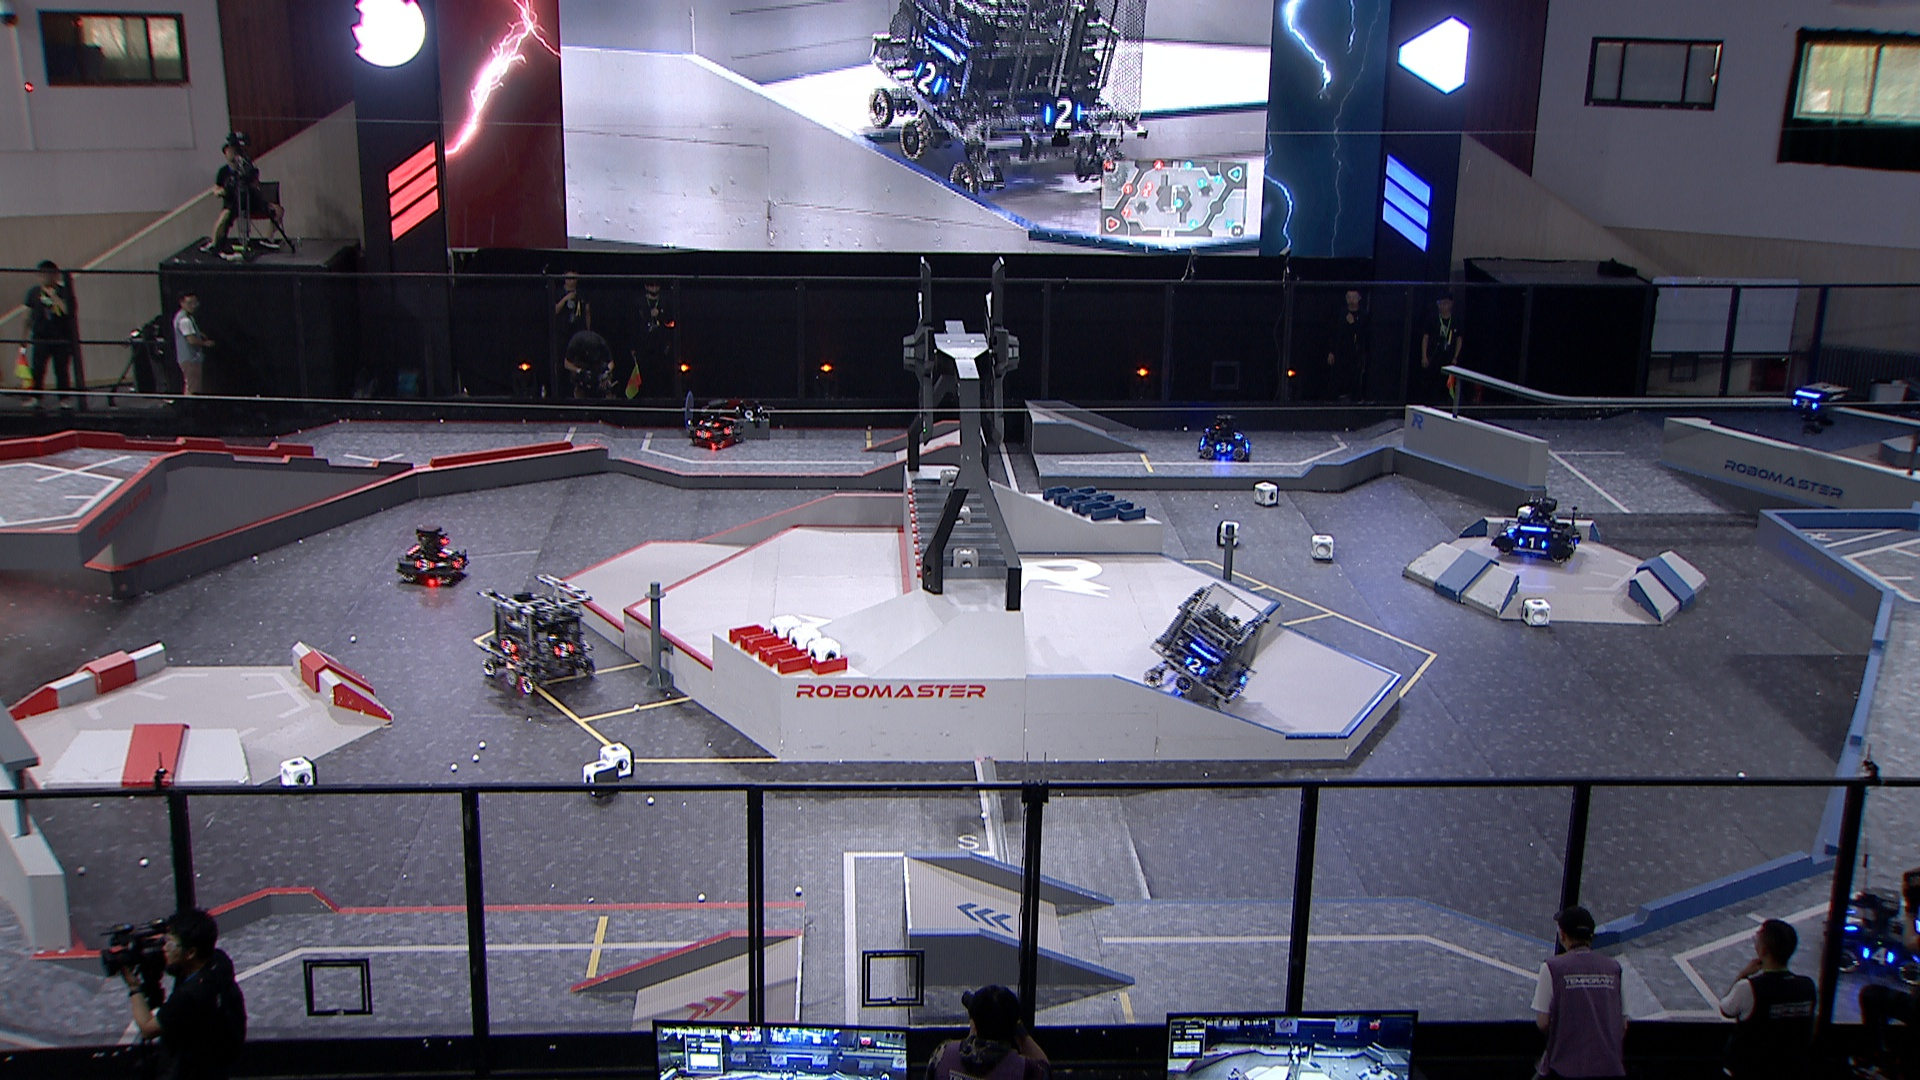armor: (1859, 945, 1898, 967), (1844, 906, 1863, 934), (1515, 534, 1548, 550), (1185, 654, 1207, 678), (551, 640, 576, 659), (496, 637, 518, 655), (1792, 398, 1821, 411), (1212, 440, 1236, 454), (698, 417, 723, 429), (415, 556, 434, 572), (434, 547, 455, 560), (1503, 520, 1520, 535), (1564, 535, 1580, 551), (692, 429, 711, 439), (451, 555, 465, 568), (721, 422, 735, 434), (1234, 429, 1245, 440)
car: (1139, 578, 1269, 712), (472, 572, 599, 698), (1822, 894, 1920, 986), (1494, 483, 1584, 564), (398, 524, 469, 585), (684, 398, 745, 448), (1199, 413, 1250, 462)
watcher: (1788, 378, 1849, 436)
